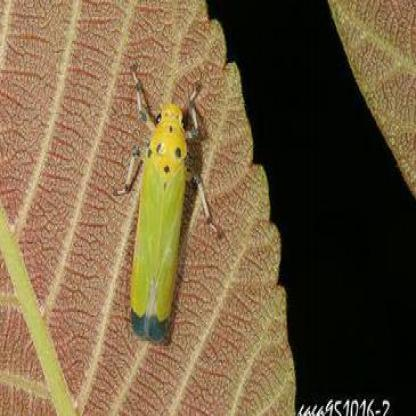Green-Leafhopper: (113, 56, 224, 349)
